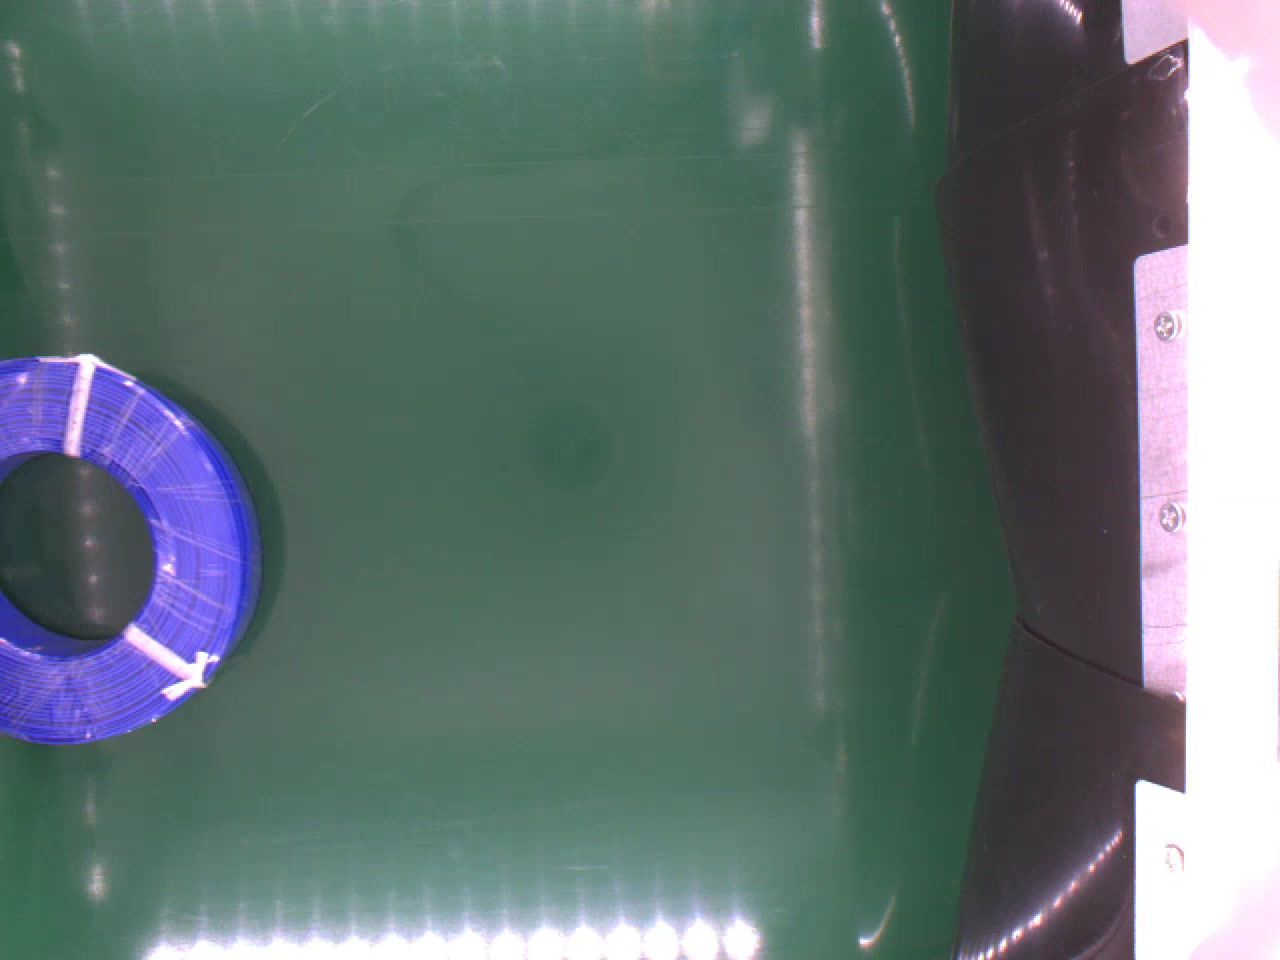blue: (0, 348, 265, 748)
